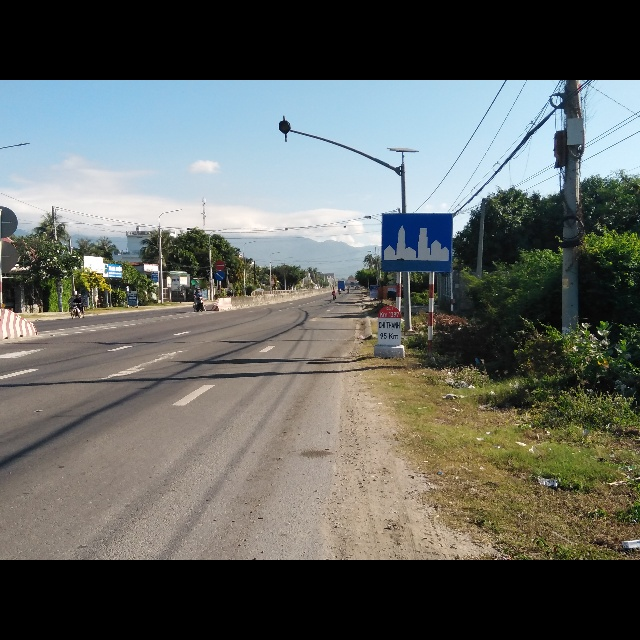Khu đông dân cư: (380, 211, 453, 272)
